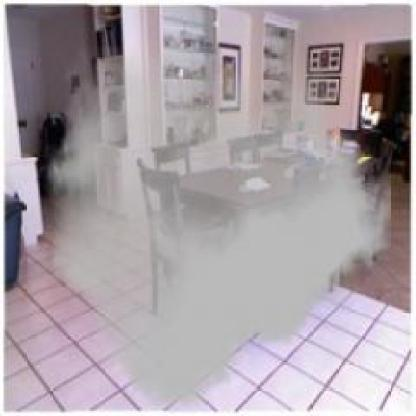Smoke: (44, 46, 391, 406)
